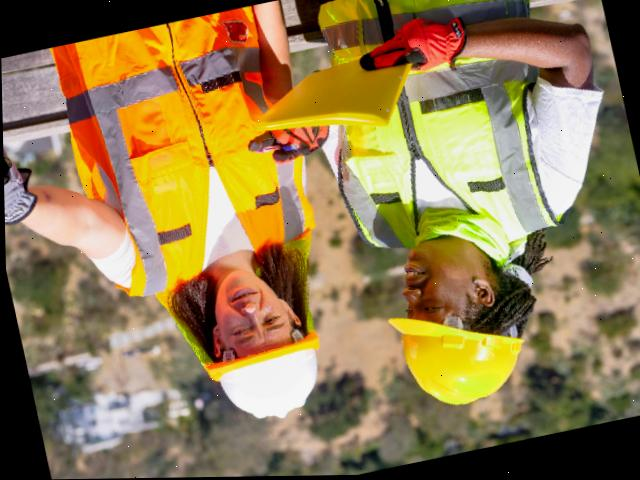helmet: (378, 302, 525, 413), (193, 334, 331, 422)
vest: (290, 0, 574, 263), (72, 5, 306, 297)
